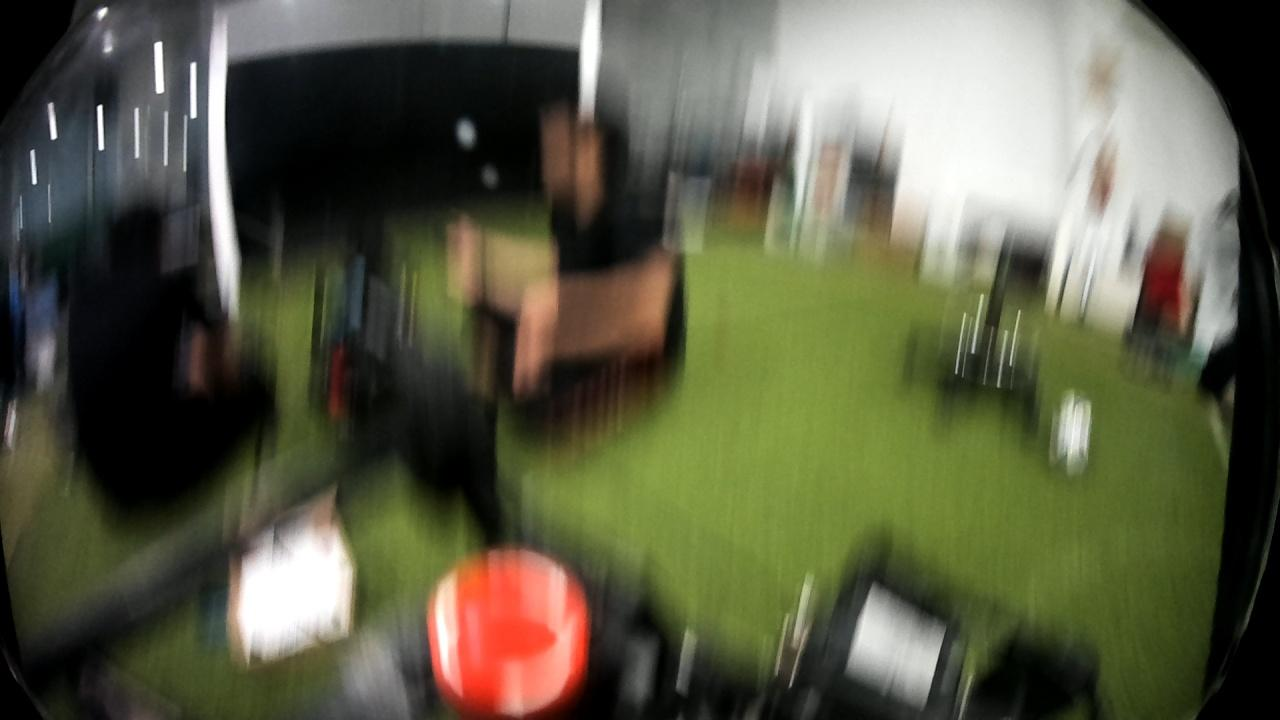ball: (1040, 388, 1100, 483)
